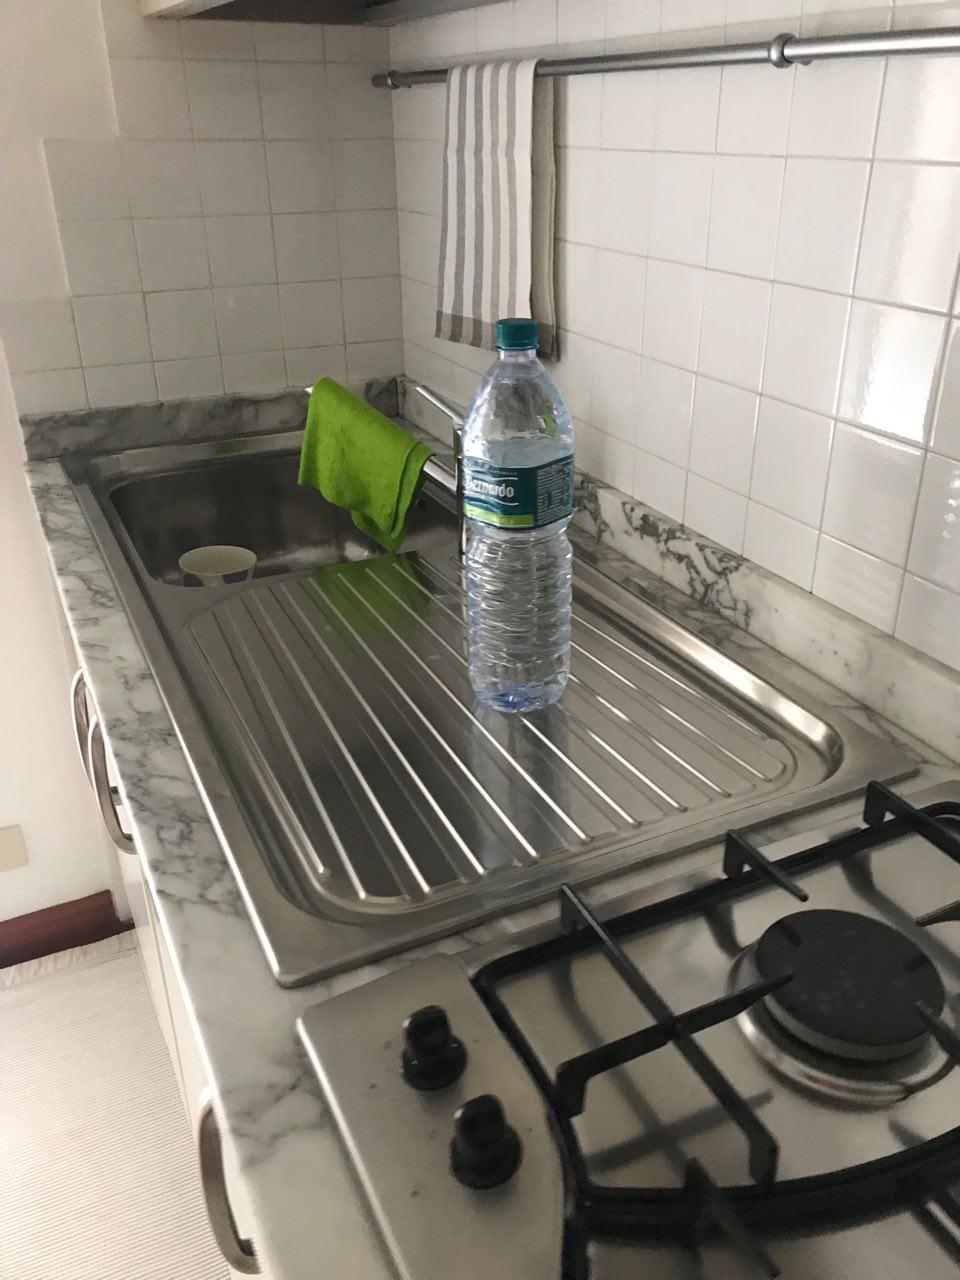san_bernardo: (461, 318, 575, 713)
